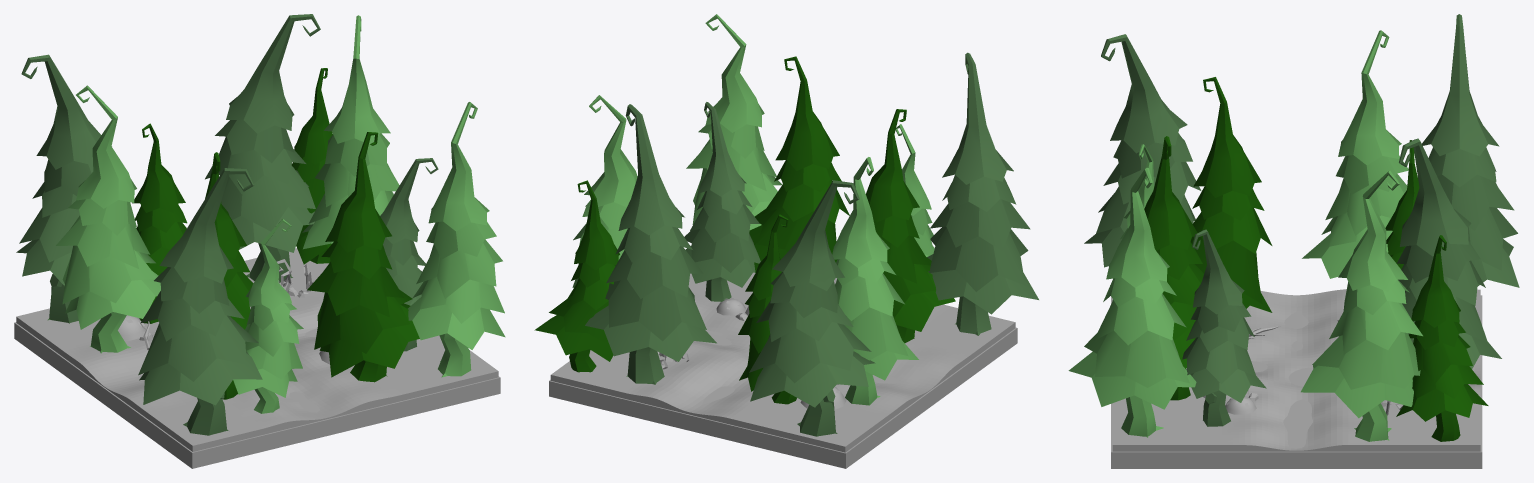
File: Foret_labyrinth06.fbx
3 renders of one model, left to right at view 1: azimuth 30°, elevation 25°; view 2: azimuth 150°, elevation 25°; view 3: azimuth 270°, elevation 25°, orthographic. The views are drawn at different scales.
Visible parts, largest first — view 1: sol34, sapin48, sapin47, sapin44, sapin39, sapin46, sol33, sapin41, sapin43, sapin49, sapin40, sapin45 (+3 smaller); view 2: sol34, sapin44, sapin41, sapin48, sapin39, sol33, sapin47, sapin45, sapin50, sapin46, sapin42, sapin43 (+2 smaller); view 3: sol34, sapin46, sapin43, sapin41, sol33, sapin39, sapin44, sapin50, sapin48, sapin45, sapin42, sapin47 (+2 smaller).
Part boxes in pixels (box(x1,y1,x2,y2)): sol34: box(16, 248, 498, 451); sapin48: box(138, 168, 262, 435); sapin47: box(307, 132, 419, 382); sapin44: box(205, 14, 320, 282); sapin39: box(56, 85, 160, 353); sapin46: box(407, 102, 505, 377); sol33: box(14, 322, 500, 468); sapin41: box(16, 54, 111, 323); sapin43: box(302, 15, 399, 249); sapin49: box(233, 219, 303, 413); sapin40: box(132, 123, 187, 323); sapin45: box(380, 158, 438, 351); sol34: box(550, 272, 1015, 452); sapin44: box(585, 104, 716, 384); sapin41: box(749, 180, 875, 436); sapin48: box(927, 52, 1038, 335); sapin39: box(832, 157, 918, 405); sol33: box(549, 327, 1017, 468); sapin47: box(749, 56, 849, 272); sapin45: box(684, 102, 760, 301); sapin50: box(866, 109, 955, 342); sapin46: box(686, 14, 782, 230); sapin42: box(534, 180, 619, 372); sapin43: box(572, 95, 637, 287); sol34: box(1112, 289, 1480, 451); sapin46: box(1068, 167, 1196, 437); sapin43: box(1301, 170, 1422, 441); sapin41: box(1422, 14, 1519, 287); sol33: box(1111, 295, 1482, 468); sapin39: box(1302, 30, 1408, 278); sapin44: box(1397, 138, 1501, 368); sapin50: box(1190, 77, 1272, 312); sapin48: box(1084, 34, 1201, 267); sapin45: box(1182, 229, 1266, 426); sapin42: box(1396, 235, 1488, 441); sapin47: box(1144, 136, 1203, 400).
Size of the model in its own units: 952 by 714 by 973.
